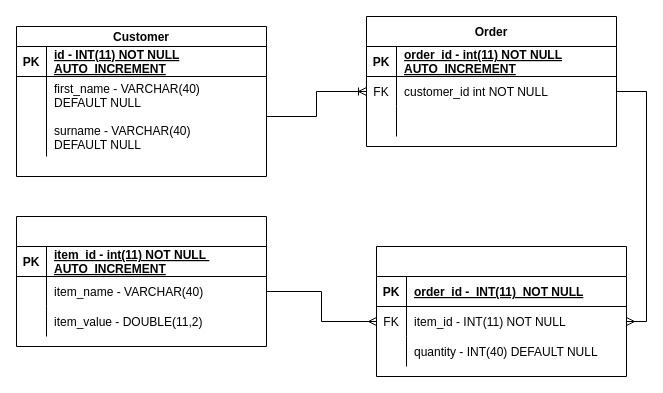
The diagram is 663 pixels wide and 393 high, and some of its shapes have lost their labels. The box of each missing label's shape, as (x1, y1, x2, y2) in pixels:
Items: (16, 216, 266, 346)
ordersitems: (376, 246, 626, 376)
